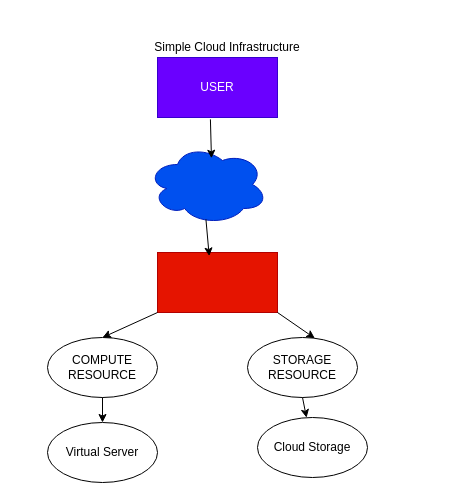
This 454x500 diagram has some shape labels left out. Here are the shapes that lost their labels. From the top down, the centre of each, then its label:
At [207,184]: "INTERNET".
At [217,282]: "NETWORK".
